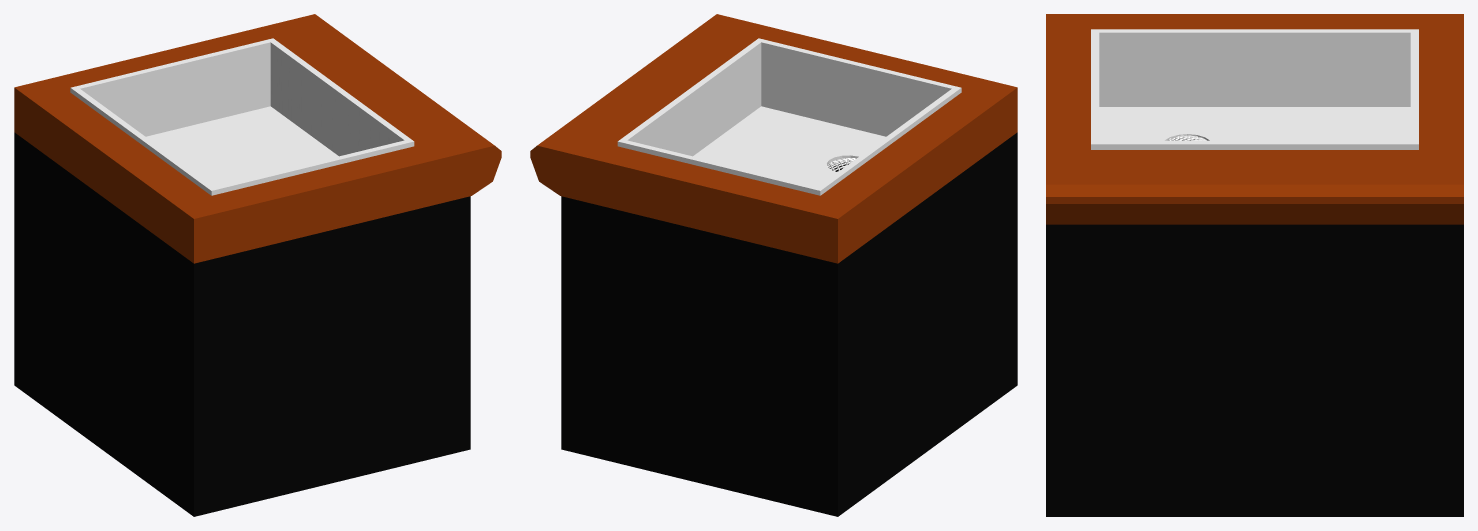
The model's file is workplan_003.glb.
The picture shows the model from 3 angles, left to right: view 1: azimuth 30°, elevation 25°; view 2: azimuth 150°, elevation 25°; view 3: azimuth 270°, elevation 25°; orthographic projection. The views are drawn at different scales.
Visible parts, largest first — view 1: workplan_003; view 2: workplan_003; view 3: workplan_003.
Part boxes in pixels (x1,y1,x2,y2): workplan_003: (14, 14, 501, 516); workplan_003: (530, 14, 1017, 516); workplan_003: (1046, 14, 1463, 516).
Bounding box in the file's own units: 0.4352 × 0.4092 × 0.4404.
